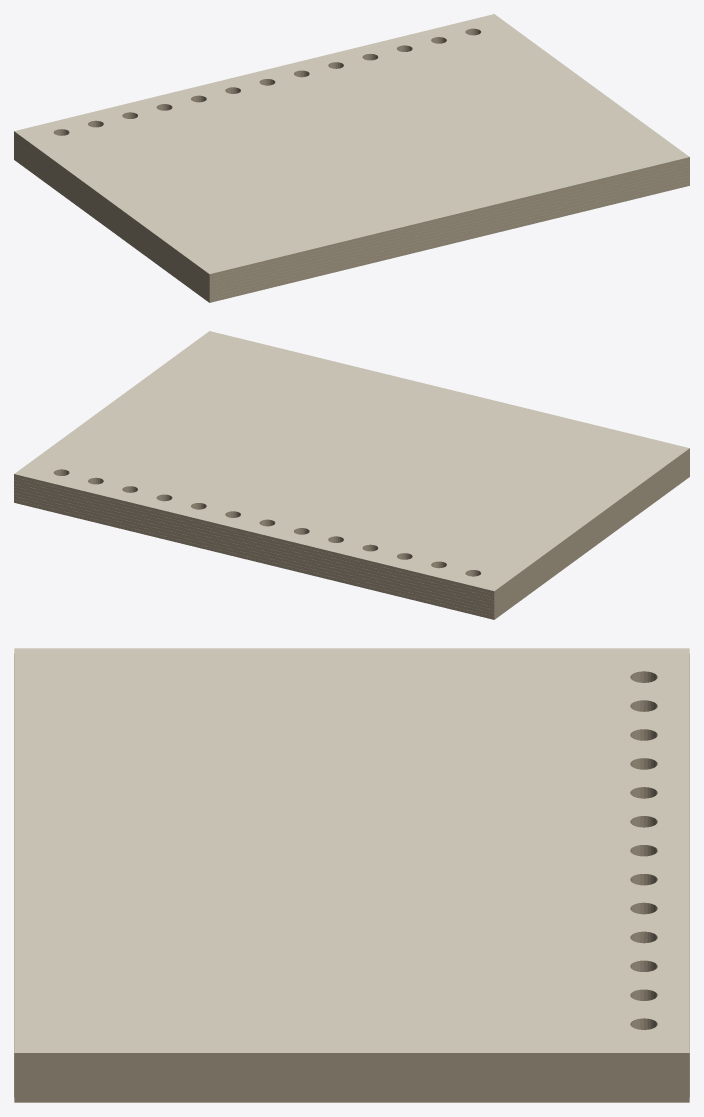
File: paper.glb
The picture shows the model from 3 angles, top to bottom: view 1: azimuth 30°, elevation 25°; view 2: azimuth 150°, elevation 25°; view 3: azimuth 270°, elevation 25°; orthographic projection. The views are drawn at different scales.
Parts seen in each view (by area): view 1: PrepunchedPagesPaper, PrepunchedPagesLeaves_2_1, PrepunchedPagesLeaves_3_1, PrepunchedPagesLeaves_5_1, PrepunchedPagesLeaves_6_1, PrepunchedPagesLeaves_7_1, PrepunchedPagesLeaves_1_1, PrepunchedPagesLeaves_4_1, PrepunchedPagesLeaves_8_1; view 2: PrepunchedPagesPaper, PrepunchedPagesLeaves_2_-1, PrepunchedPagesLeaves_3_-1, PrepunchedPagesLeaves_5_-1, PrepunchedPagesLeaves_6_-1, PrepunchedPagesLeaves_7_-1, PrepunchedPagesLeaves_1_-1, PrepunchedPagesLeaves_4_-1, PrepunchedPagesLeaves_8_-1; view 3: PrepunchedPagesPaper.
Boxes of the visible parts, box(x1,y1,x2,y2) form: PrepunchedPagesPaper: box(14, 14, 689, 302); PrepunchedPagesLeaves_2_1: box(210, 179, 689, 296); PrepunchedPagesLeaves_3_1: box(210, 176, 689, 293); PrepunchedPagesLeaves_5_1: box(210, 169, 689, 286); PrepunchedPagesLeaves_6_1: box(210, 166, 689, 283); PrepunchedPagesLeaves_7_1: box(209, 163, 689, 280); PrepunchedPagesLeaves_1_1: box(210, 182, 689, 299); PrepunchedPagesLeaves_4_1: box(210, 173, 689, 290); PrepunchedPagesLeaves_8_1: box(210, 160, 689, 277); PrepunchedPagesPaper: box(14, 331, 689, 619); PrepunchedPagesLeaves_2_-1: box(14, 496, 493, 613); PrepunchedPagesLeaves_3_-1: box(14, 493, 493, 610); PrepunchedPagesLeaves_5_-1: box(14, 486, 493, 603); PrepunchedPagesLeaves_6_-1: box(14, 483, 493, 600); PrepunchedPagesLeaves_7_-1: box(14, 480, 494, 597); PrepunchedPagesLeaves_1_-1: box(14, 499, 493, 616); PrepunchedPagesLeaves_4_-1: box(14, 490, 493, 607); PrepunchedPagesLeaves_8_-1: box(14, 477, 493, 594); PrepunchedPagesPaper: box(14, 648, 689, 1102).
Bounding box in the file's own units: 0.21 × 0.012 × 0.1482.
